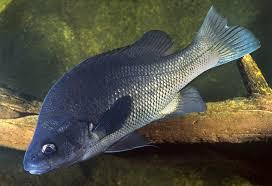Silver Perch: (21, 4, 262, 177)
